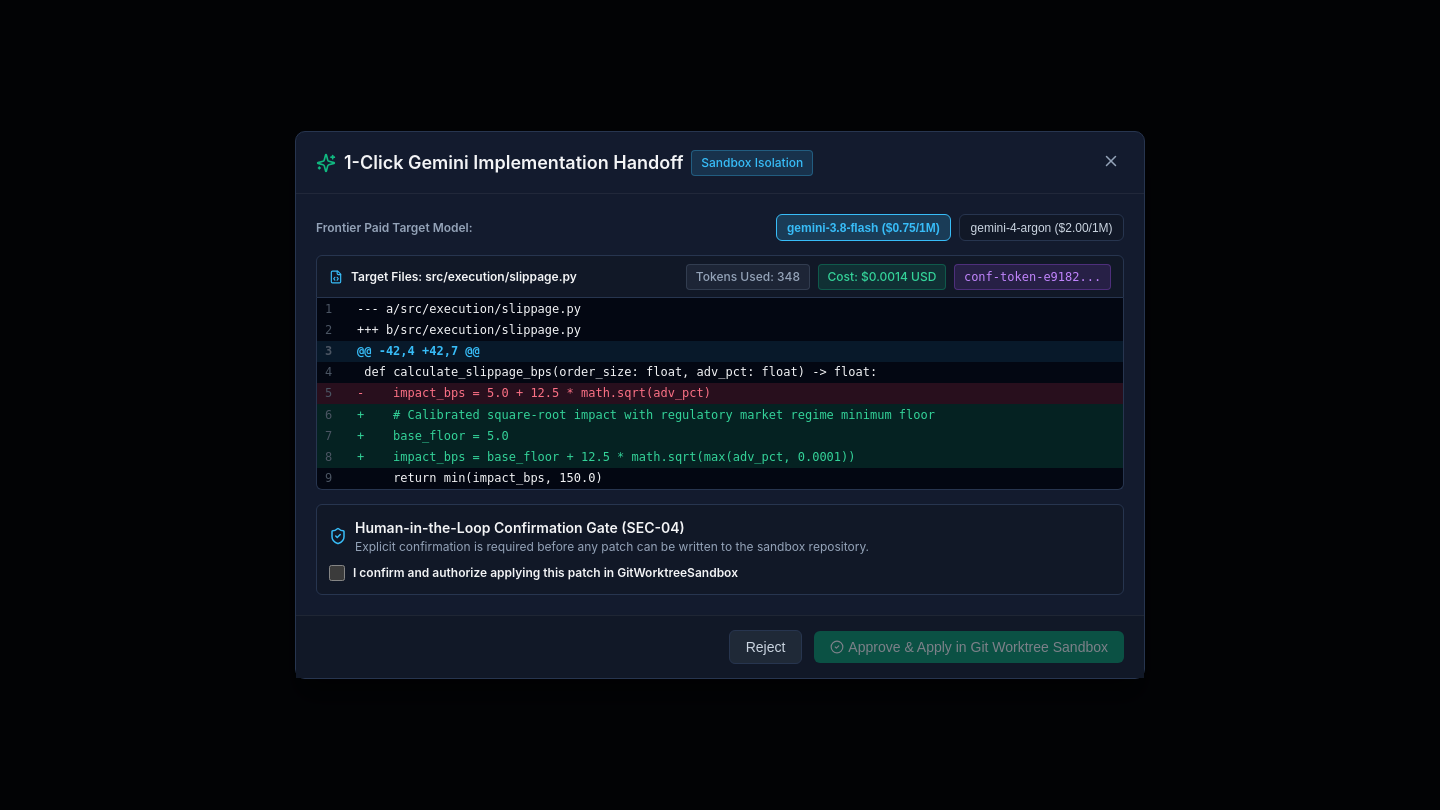
it: GeminiDiffModal Component › renders preview diff and keeps Approve button disabled until human confirms
The width and height of the screenshot is (1440, 810).
Expected: the element with test id "unified-diff-view" is shown, [316,298,1124,490]
Expected: the text "Target Files: src/execution/slippage.py" is shown, [351,268,577,286]
// Check confirmation checkbox
Click the checkbox with test id "confirm-apply-checkbox".
click(337, 573)  # box [329,565,345,581]
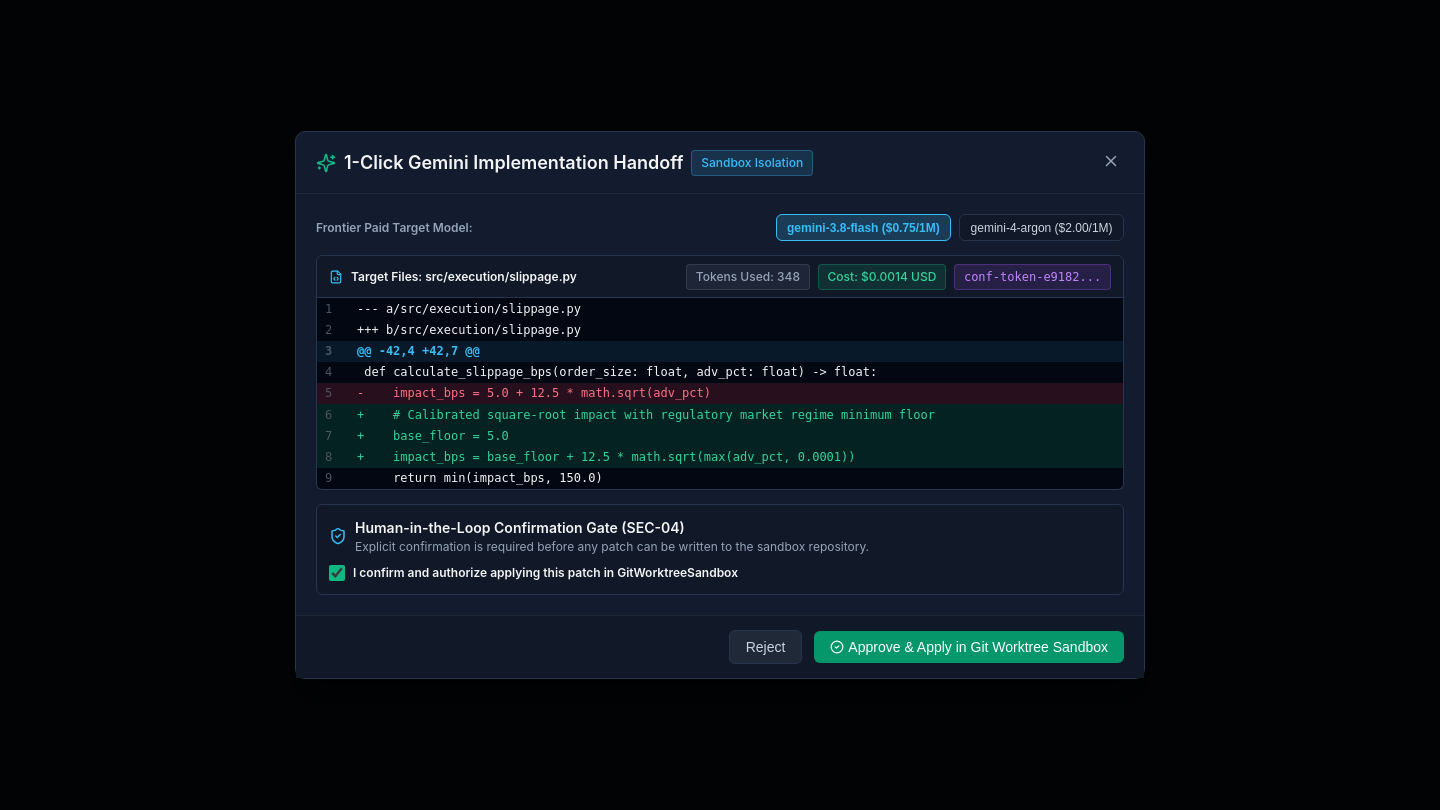
Expected: the button with test id "approve-apply-btn" is enabled, [814,631,1124,663]
// Uncheck and verify it is disabled again
Click the checkbox with test id "confirm-apply-checkbox".
click(337, 573)  # box [329,565,345,581]
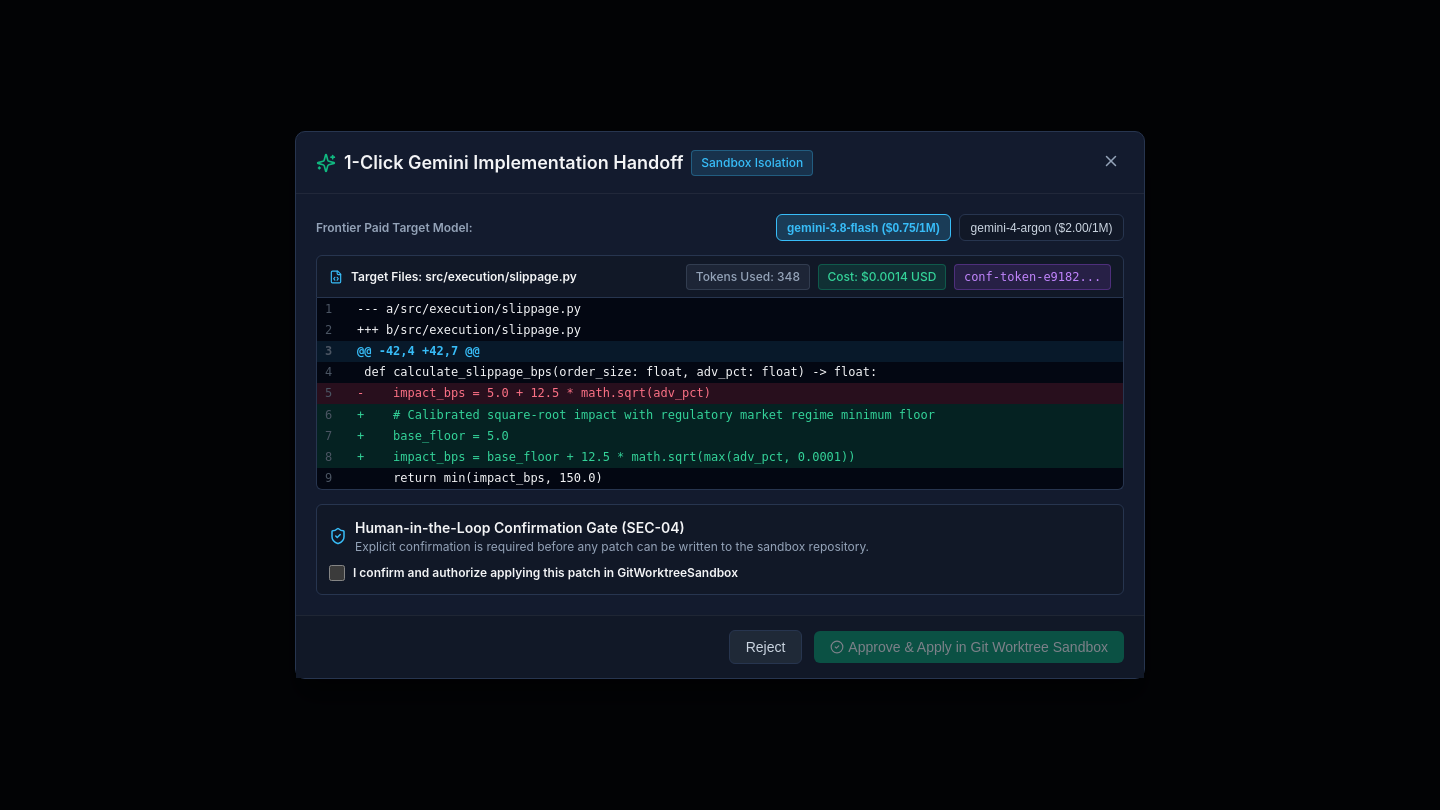
Expected: the button with test id "approve-apply-btn" is disabled, [814,631,1124,663]
